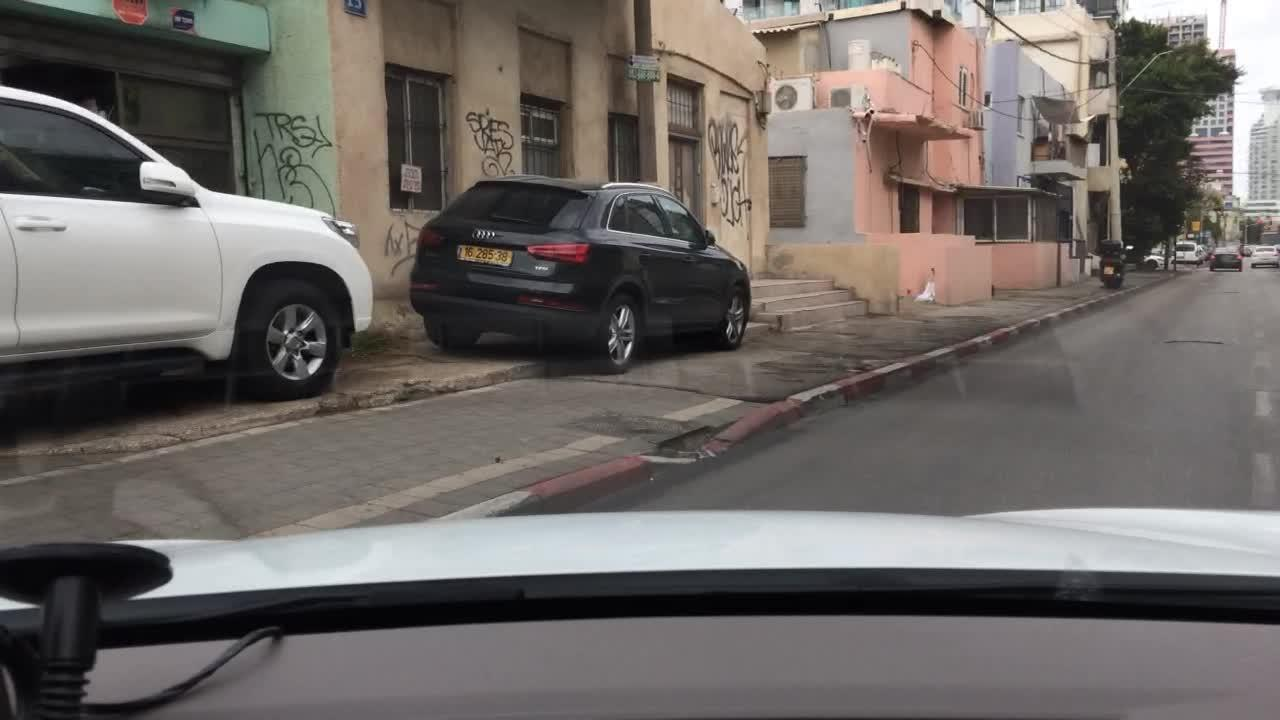Nissan: (472, 223, 509, 248)
